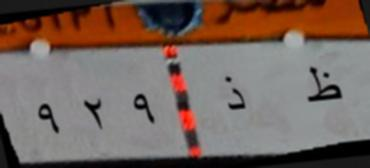2: (80, 92, 109, 135)
9: (132, 88, 161, 134), (34, 97, 64, 140)
Thaa: (302, 62, 345, 112)
zaal: (219, 70, 250, 116)
